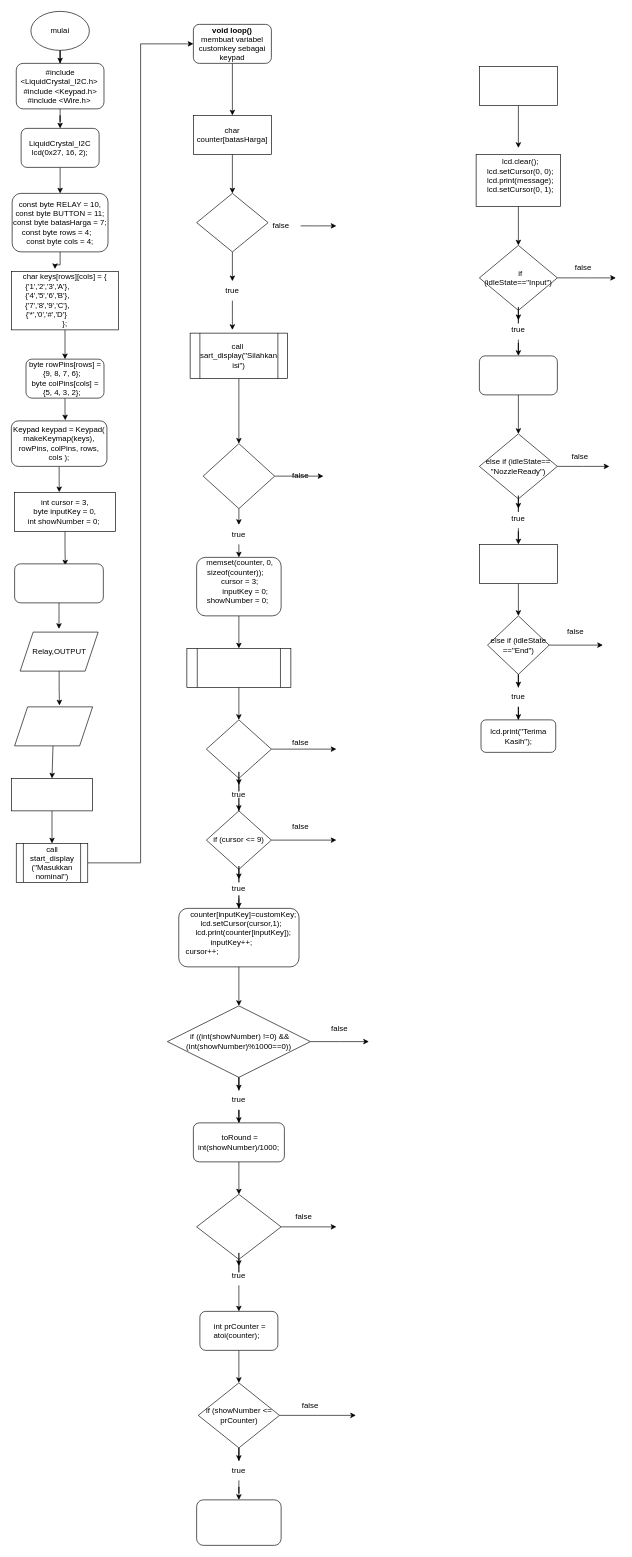
Image size: 632x1557. Some labels were removed from this diagram. The shapes that lost their labels are listed below. From the top down, each one's centre as x and y in pixels, then its label:
pixel 518 86: void start_display (char message[],char idleState[])
pixel 232 222: if customkey="#"
pixel 518 375: lcd.print("Rp.");
pixel 238 476: else if customkey="*"
pixel 58 583: Void setup() lcd.begin(); lcd.backlight();
pixel 518 563: lcd.clear(); lcd.print(message); lcd.setCursor(0, 1);
pixel 238 667: call start_display("Masukkan Nominal","Input");
pixel 53 726: Button,INPUT
pixel 238 748: else if (customKey)
pixel 52 794: Serial.begin(9600);
pixel 238 1226: if (digitalRead (BUTTON)==HIGH)
pixel 238 1522: lcd.setCursor(0, 1); lcd.print(showNumber); showNumber++;
